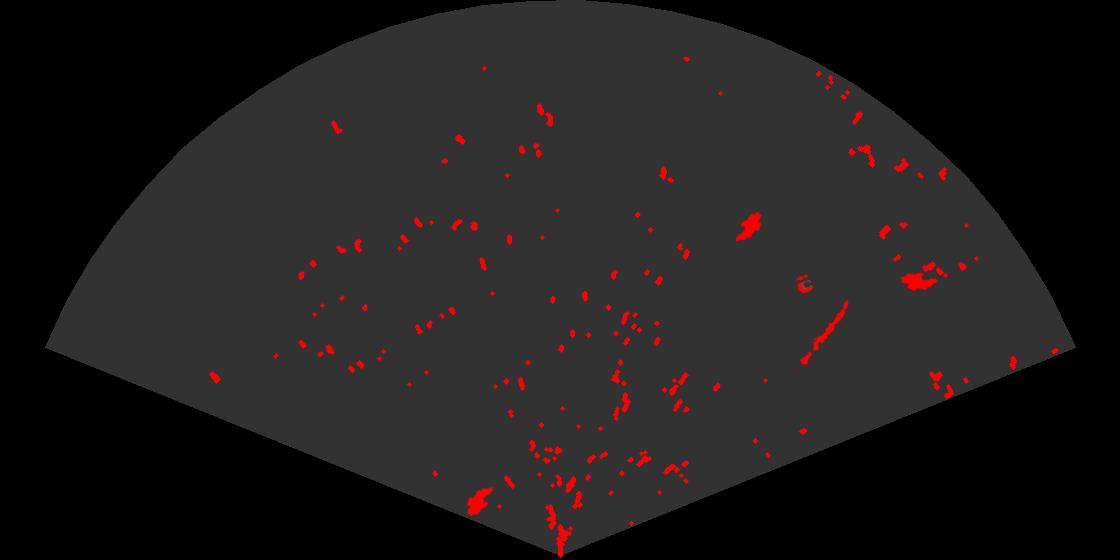AUV: (465, 485, 495, 518), (734, 210, 763, 243), (899, 271, 940, 293)
ball: (794, 272, 815, 295)
chain: (794, 299, 850, 375)
